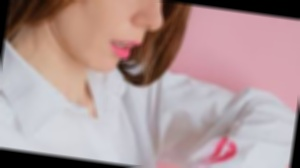lipstick: (207, 130, 247, 168)
